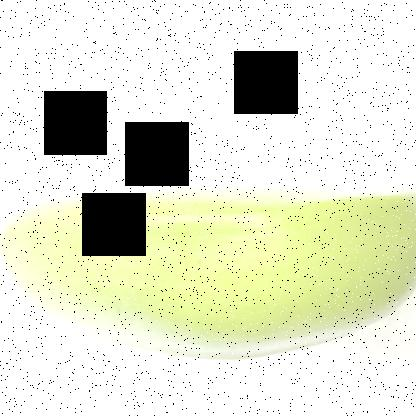freshunripe: (0, 157, 415, 381)
